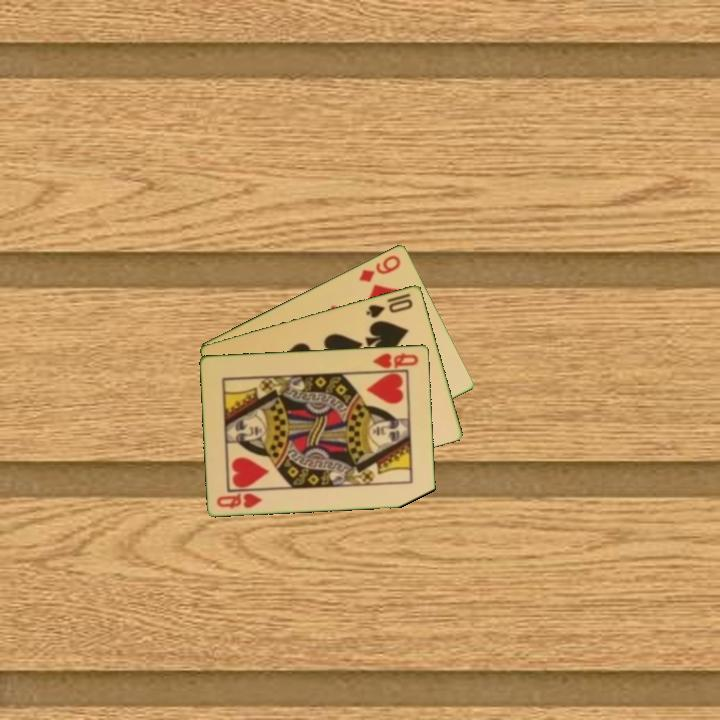10s: (363, 289, 416, 321)
9d: (355, 251, 404, 285)
Qh: (369, 349, 422, 371), (213, 489, 265, 511)
